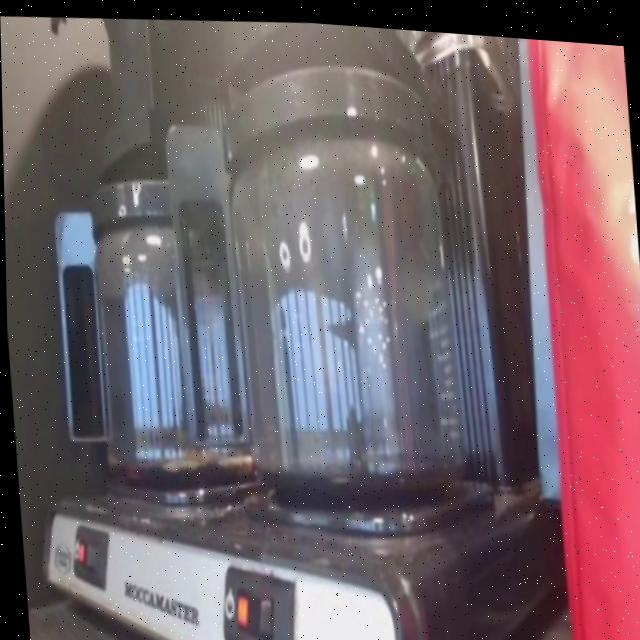nocoffee: (194, 37, 491, 529), (79, 136, 266, 508)
